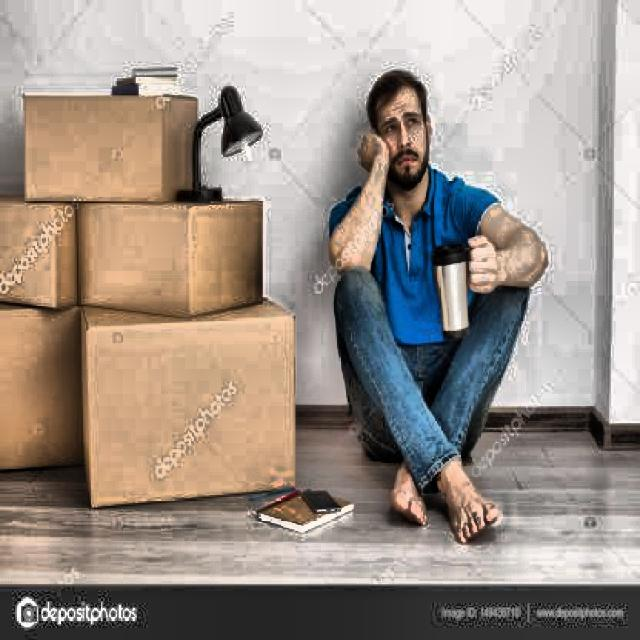Cardbox: (48, 265, 312, 518), (66, 188, 267, 316), (0, 279, 107, 501), (18, 84, 202, 212), (0, 186, 88, 312)
